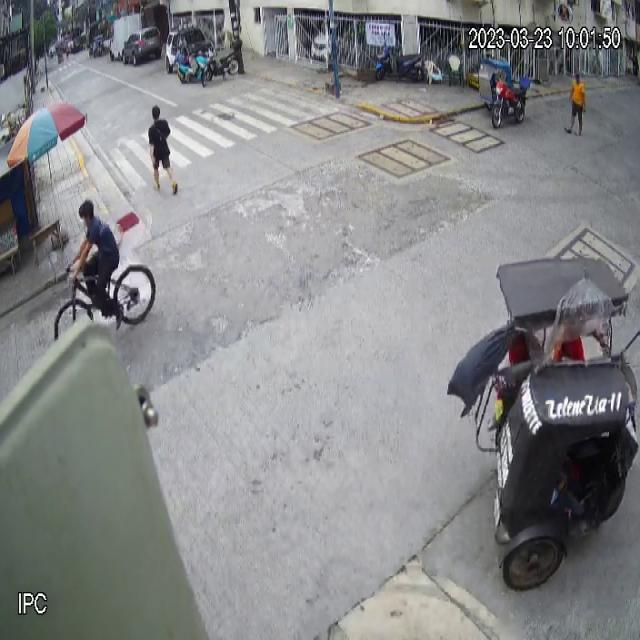Tricycle: (469, 255, 640, 592), (478, 55, 530, 129)
